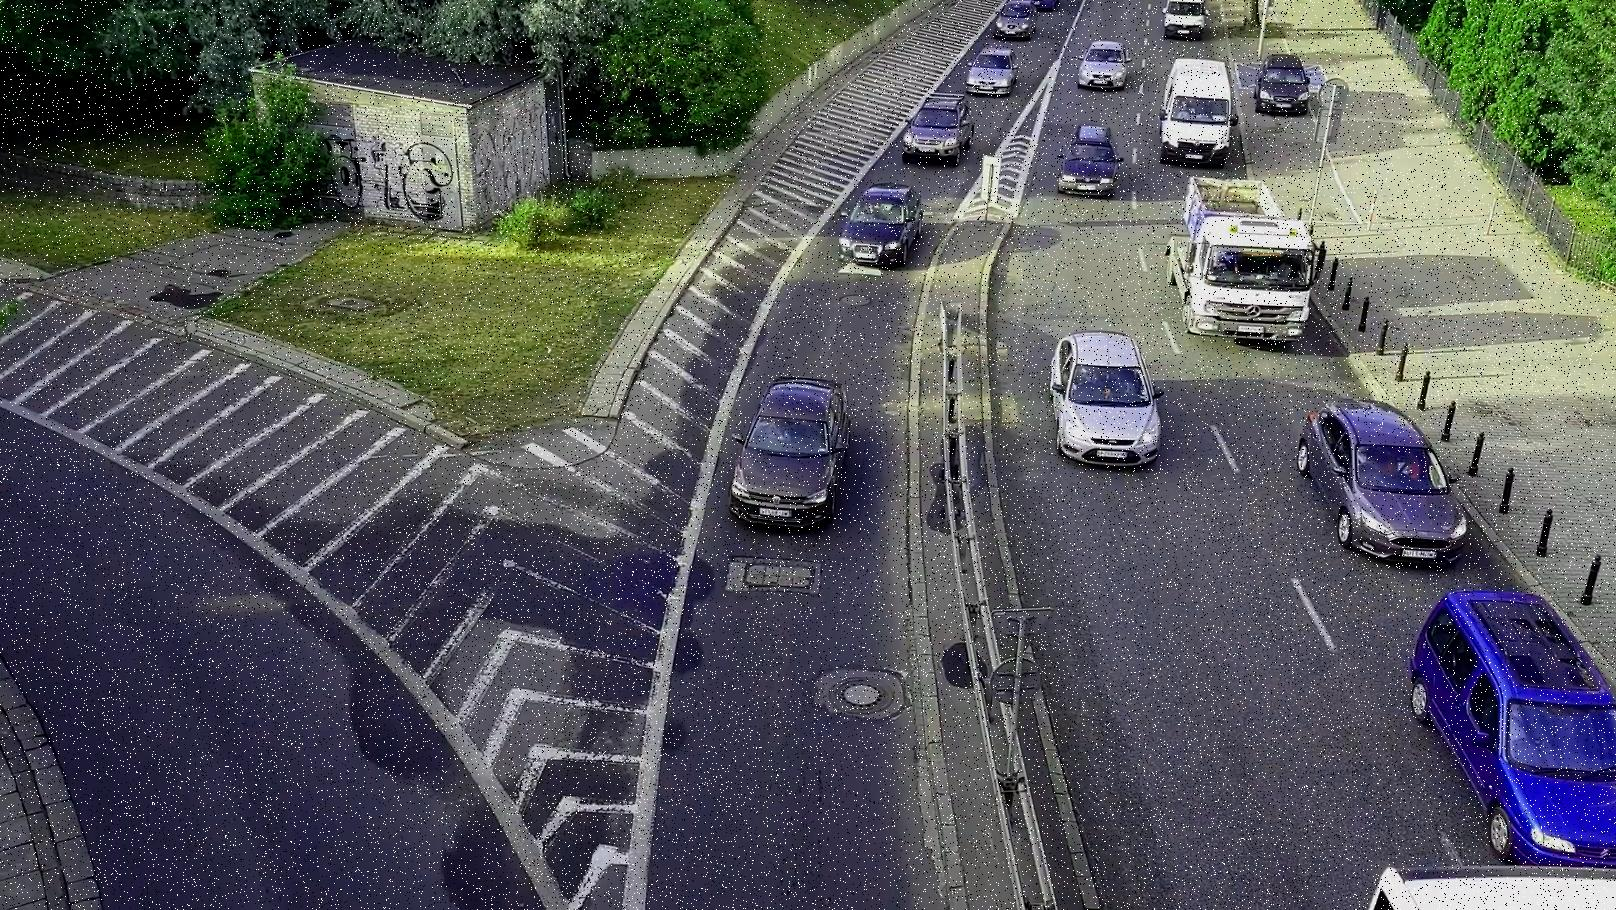bus: (1331, 854, 1616, 910)
car: (1397, 574, 1616, 859), (1291, 385, 1482, 565), (725, 361, 851, 523), (1045, 323, 1156, 478), (1164, 54, 1243, 169), (834, 173, 923, 263), (901, 87, 977, 169), (1056, 124, 1119, 198), (1249, 48, 1315, 117), (1075, 32, 1134, 93), (979, 0, 1044, 39), (969, 43, 1015, 97), (1158, 0, 1214, 44)
